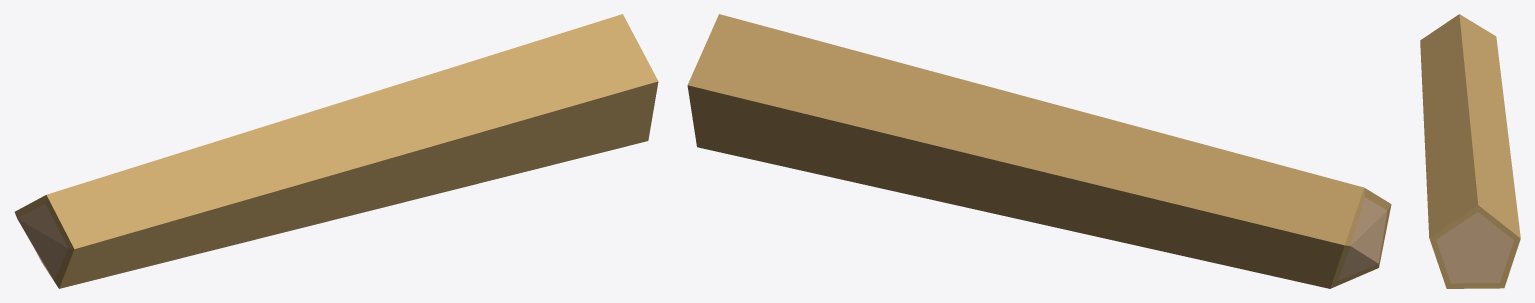
Rendered from Simple_Log_04.fbx.
3 renders of one model, left to right at view 1: azimuth 30°, elevation 25°; view 2: azimuth 150°, elevation 25°; view 3: azimuth 270°, elevation 25°, orthographic. The views are drawn at different scales.
Visible parts, largest first — view 1: Simple_Log_04; view 2: Simple_Log_04; view 3: Simple_Log_04.
Boxes of the visible parts, x1,y1,x2,y2 form: Simple_Log_04: [14, 14, 658, 288]; Simple_Log_04: [687, 14, 1391, 288]; Simple_Log_04: [1420, 14, 1520, 288].
Size of the model in its own units: 122 by 21.84 by 24.16.
